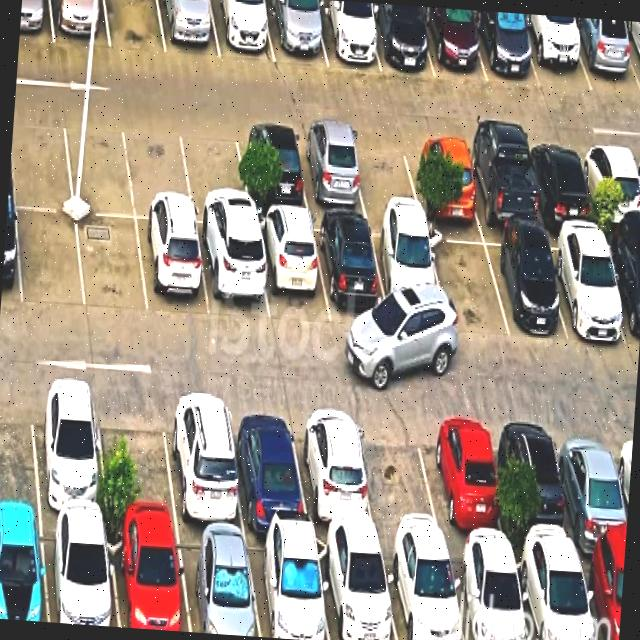empty: (353, 408, 445, 544), (96, 387, 177, 526), (426, 227, 508, 336), (62, 111, 135, 217), (178, 120, 251, 226), (124, 116, 194, 220), (77, 214, 147, 316), (16, 209, 85, 308), (10, 107, 73, 210), (348, 130, 421, 214), (0, 380, 39, 513), (104, 0, 166, 53)
occupied: (422, 410, 507, 549), (291, 405, 377, 540), (163, 393, 244, 530), (227, 398, 309, 532), (30, 381, 107, 520), (499, 414, 577, 550), (554, 418, 627, 553), (543, 228, 628, 341), (175, 528, 260, 637), (482, 229, 566, 335), (369, 221, 449, 332), (107, 524, 189, 632), (246, 534, 329, 640), (41, 517, 118, 627), (315, 537, 397, 640), (312, 216, 390, 324), (254, 213, 329, 323), (380, 545, 464, 640), (447, 546, 529, 640), (513, 549, 595, 640), (136, 219, 209, 317), (196, 225, 269, 321), (463, 137, 540, 226), (406, 134, 480, 220), (235, 125, 309, 211), (295, 127, 367, 212), (525, 140, 595, 223), (567, 17, 640, 94), (519, 13, 591, 91), (579, 141, 640, 226), (472, 10, 539, 86), (366, 2, 434, 76), (0, 516, 47, 622), (421, 6, 486, 81), (313, 0, 380, 71), (601, 230, 640, 347), (577, 551, 625, 640), (209, 0, 274, 62), (265, 0, 326, 64), (158, 0, 219, 58), (49, 0, 110, 46), (0, 203, 21, 305), (19, 0, 54, 42), (619, 20, 640, 84)
